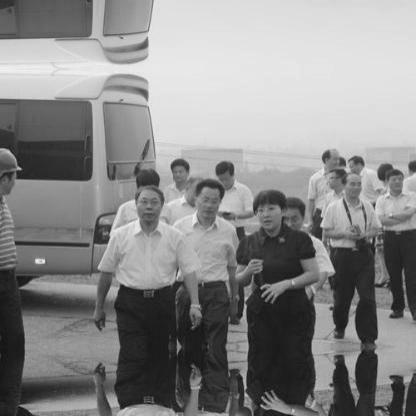helmet: (1, 147, 20, 195)
